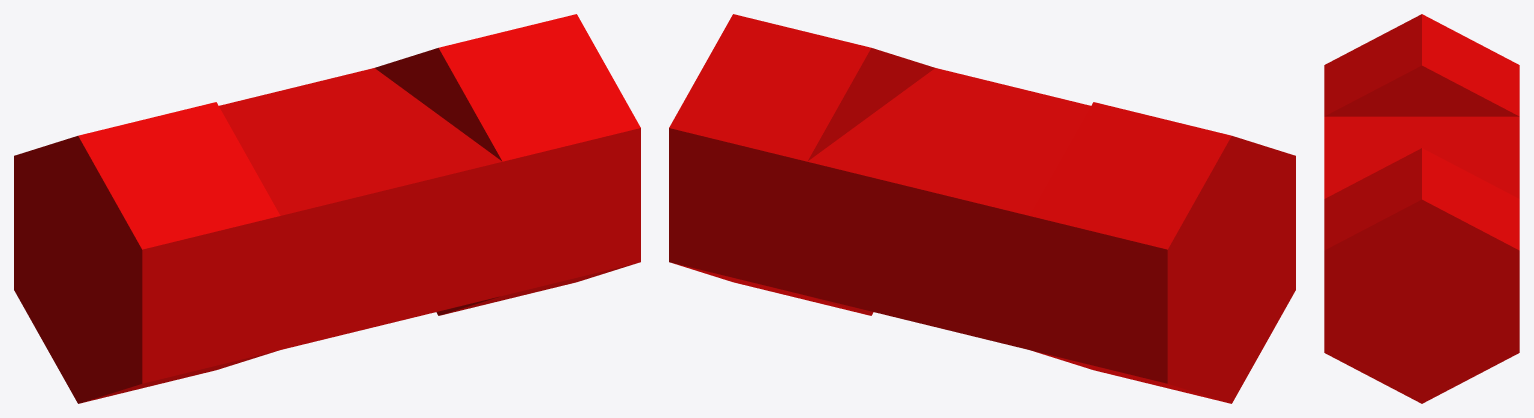
Rendered from ToyLogB.fbx.
3 views of the same model, side by side, from view 1: azimuth 30°, elevation 25°; view 2: azimuth 150°, elevation 25°; view 3: azimuth 270°, elevation 25° (orthographic). The views are drawn at different scales.
Parts seen in each view (by area): view 1: ToyLogB; view 2: ToyLogB; view 3: ToyLogB.
Part boxes in pixels (x1,y1,x2,y2): ToyLogB: (14, 14, 640, 403); ToyLogB: (669, 14, 1295, 403); ToyLogB: (1324, 14, 1519, 403).
Size of the model in its own units: 18.58 by 9.55 by 8.27.
